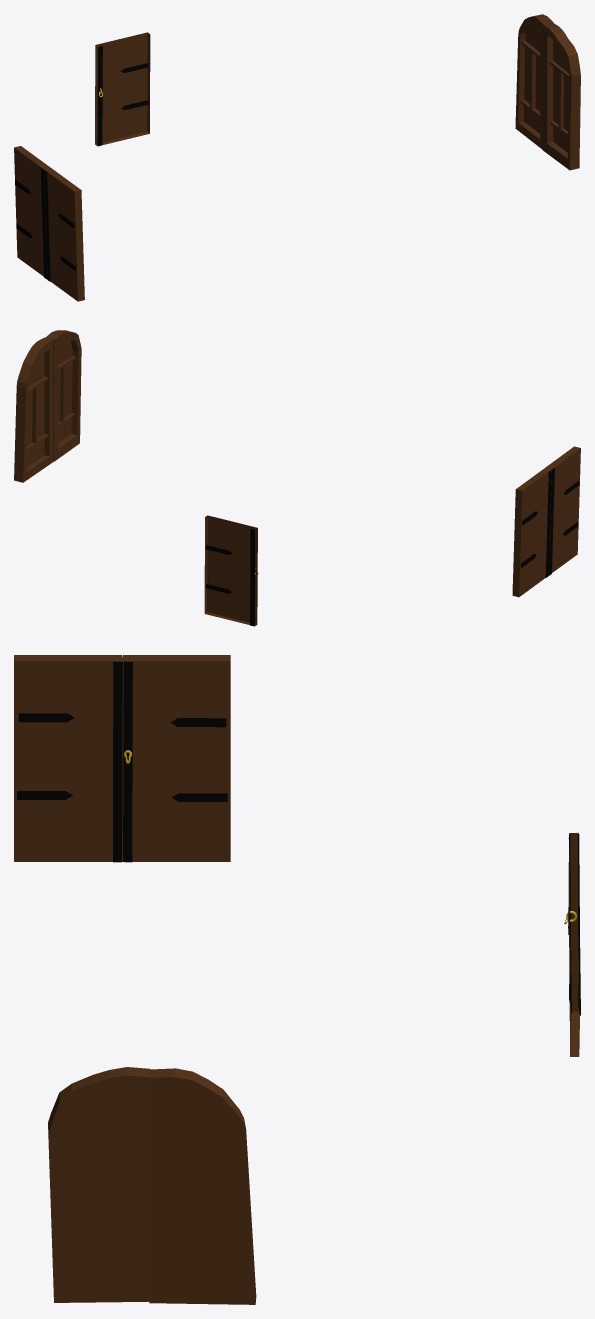
The model's file is Puertas.fbx.
3 renders of one model, top to bottom at view 1: azimuth 30°, elevation 25°; view 2: azimuth 150°, elevation 25°; view 3: azimuth 270°, elevation 25°, orthographic. The views are drawn at different scales.
Visible parts, largest first — view 1: Puerta5, Puerta2, Puerta3, Puerta4, Puerta1; view 2: Puerta5, Puerta1, Puerta4, Puerta2, Puerta3; view 3: Puerta1, Puerta3, Puerta2, Puerta4, Puerta5.
Boxes of the visible parts, x1,y1,x2,y2 form: Puerta5: (95, 32, 150, 146); Puerta2: (542, 22, 580, 170); Puerta3: (44, 168, 84, 301); Puerta4: (14, 146, 50, 279); Puerta1: (515, 14, 553, 149); Puerta5: (204, 515, 258, 626); Puerta1: (14, 337, 53, 482); Puerta4: (512, 468, 551, 597); Puerta2: (45, 330, 81, 461); Puerta3: (545, 446, 580, 575); Puerta1: (149, 1068, 256, 1304); Puerta3: (14, 655, 123, 862); Puerta2: (48, 1067, 149, 1302); Puerta4: (122, 655, 230, 862); Puerta5: (564, 832, 580, 1056).
Bounding box in the file's own units: 48157 × 11427 × 25486.
